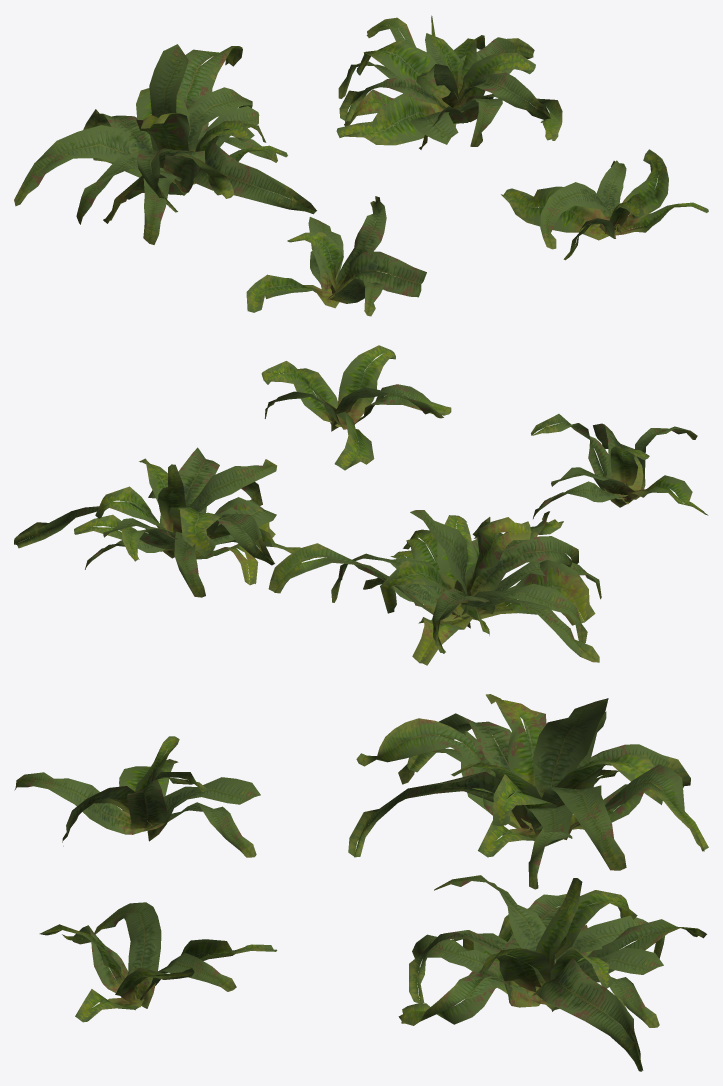
The model's file is fern_02.glb.
The picture shows the model from 3 angles, top to bottom: view 1: azimuth 30°, elevation 25°; view 2: azimuth 150°, elevation 25°; view 3: azimuth 270°, elevation 25°; orthographic projection. The views are drawn at different scales.
Parts seen in each view (by area): view 1: fern_02_b, fern_02_c, fern_02_d, fern_02_a; view 2: fern_02_b, fern_02_c, fern_02_d, fern_02_a; view 3: fern_02_b, fern_02_c, fern_02_a, fern_02_d.
Boxes of the visible parts, <box> form: fern_02_b: <box>14,44,316,244</box>; fern_02_c: <box>336,15,562,149</box>; fern_02_d: <box>501,149,708,260</box>; fern_02_a: <box>246,196,426,316</box>; fern_02_b: <box>268,510,601,665</box>; fern_02_c: <box>14,447,309,597</box>; fern_02_d: <box>261,345,451,470</box>; fern_02_a: <box>531,414,708,518</box>; fern_02_b: <box>348,694,708,889</box>; fern_02_c: <box>398,875,706,1071</box>; fern_02_a: <box>14,736,260,857</box>; fern_02_d: <box>39,902,277,1022</box>.
Bounding box in the file's own units: 1.97 × 0.4261 × 1.72.
Materials: 1 (1 with a texture image).
